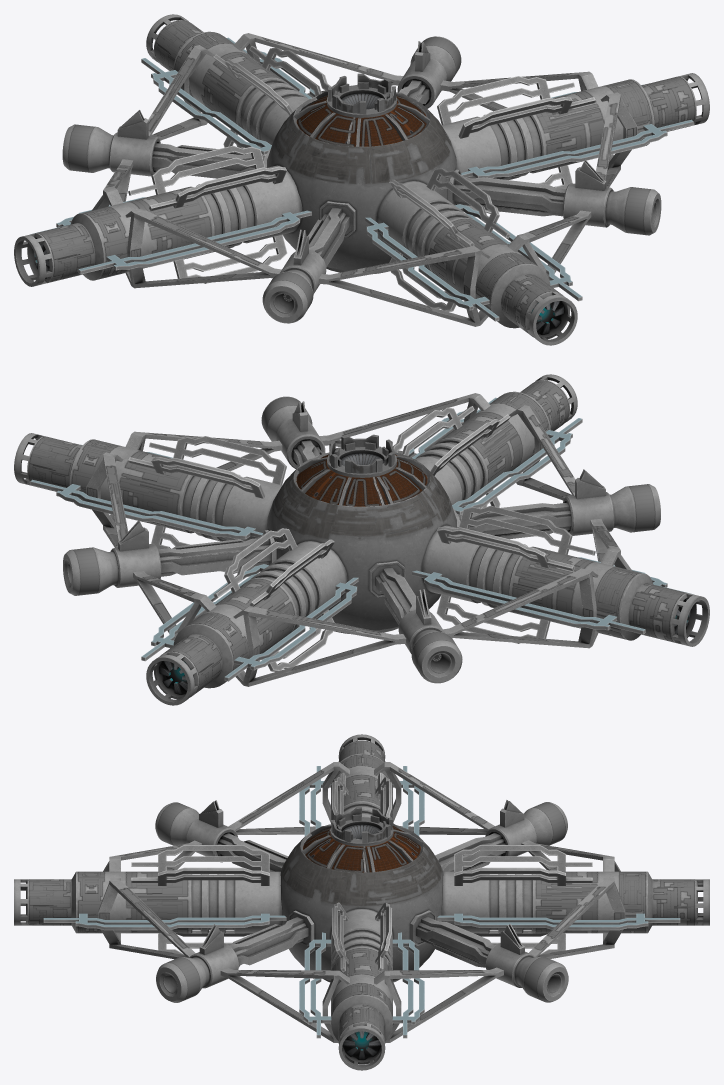
Rendered from SpaceStation_RotorNexus.fbx.
3 renders of one model, top to bottom at view 1: azimuth 30°, elevation 25°; view 2: azimuth 150°, elevation 25°; view 3: azimuth 270°, elevation 25°, orthographic. The views are drawn at different scales.
Visible parts, largest first — view 1: SpaceStationParts_1, SpaceStationCore, SupportStructure_Beam3, SupportStructure_Beam4, SupportStructure_Beam2, SupportStructure_Beam1, SurfaceBraces_Long2_2, SurfaceBraces_Long4_1, SurfaceBraces_Long3_1, SurfaceBraces_Long1_2, SurfaceBraces_Short2_1, SurfaceBraces_Short4_2 (+10 smaller); view 2: SpaceStationParts_1, SpaceStationCore, SupportStructure_Beam2, SupportStructure_Beam1, SupportStructure_Beam4, SupportStructure_Beam3, SurfaceBraces_Long2_1, SurfaceBraces_Long4_2, SurfaceBraces_Long1_2, SurfaceBraces_Long3_1, SurfaceBraces_Short2_2, SurfaceBraces_Short4_1 (+10 smaller); view 3: SpaceStationParts_1, SpaceStationCore, SupportStructure_Beam4, SupportStructure_Beam1, SupportStructure_Beam3, SupportStructure_Beam2, SurfaceBraces_Long3_2, SurfaceBraces_Long1_1, SurfaceBraces_Short3_2, SurfaceBraces_Short1_1, SurfaceBraces_Short1_2, SurfaceBraces_Short3_1 (+7 smaller).
Part boxes in pixels (<box>): SpaceStationParts_1: <box>14,14,709,345</box>; SpaceStationCore: <box>267,85,456,273</box>; SupportStructure_Beam3: <box>125,208,490,326</box>; SupportStructure_Beam4: <box>507,92,637,280</box>; SupportStructure_Beam2: <box>92,45,214,210</box>; SupportStructure_Beam1: <box>233,33,598,111</box>; SurfaceBraces_Long2_2: <box>78,210,311,274</box>; SurfaceBraces_Long4_1: <box>461,119,693,178</box>; SurfaceBraces_Long3_1: <box>365,217,499,321</box>; SurfaceBraces_Long1_2: <box>141,58,271,154</box>; SurfaceBraces_Short2_1: <box>128,145,265,195</box>; SurfaceBraces_Short4_2: <box>437,76,574,124</box>; SpaceStationParts_1: <box>14,374,709,705</box>; SpaceStationCore: <box>267,446,456,633</box>; SupportStructure_Beam2: <box>233,568,598,686</box>; SupportStructure_Beam1: <box>86,452,216,640</box>; SupportStructure_Beam4: <box>125,393,490,471</box>; SupportStructure_Beam3: <box>509,405,631,570</box>; SurfaceBraces_Long2_1: <box>412,570,645,634</box>; SurfaceBraces_Long4_2: <box>30,479,262,539</box>; SurfaceBraces_Long1_2: <box>224,577,358,681</box>; SurfaceBraces_Long3_1: <box>452,418,582,514</box>; SurfaceBraces_Short2_2: <box>458,505,595,555</box>; SurfaceBraces_Short4_1: <box>149,436,286,484</box>; SpaceStationParts_1: <box>14,734,709,1070</box>; SpaceStationCore: <box>280,817,443,982</box>; SupportStructure_Beam4: <box>98,878,349,1042</box>; SupportStructure_Beam1: <box>374,878,625,1042</box>; SupportStructure_Beam3: <box>103,762,349,871</box>; SupportStructure_Beam2: <box>374,762,620,871</box>; SurfaceBraces_Long3_2: <box>43,913,286,930</box>; SurfaceBraces_Long1_1: <box>437,913,680,930</box>; SurfaceBraces_Short3_2: <box>131,867,269,885</box>; SurfaceBraces_Short1_1: <box>454,867,592,885</box>; SurfaceBraces_Short1_2: <box>454,845,592,871</box>; SurfaceBraces_Short3_1: <box>131,845,269,871</box>.
Bounding box in the file's own units: 649 × 152 × 649.
